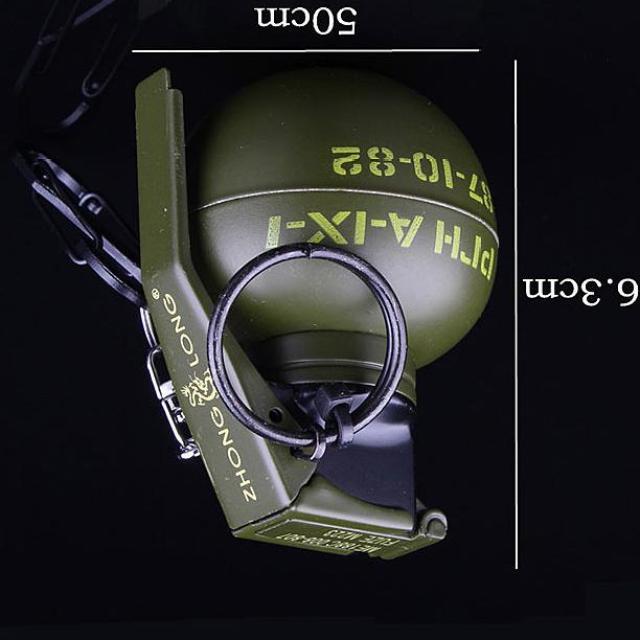grenade: (135, 58, 501, 560)
